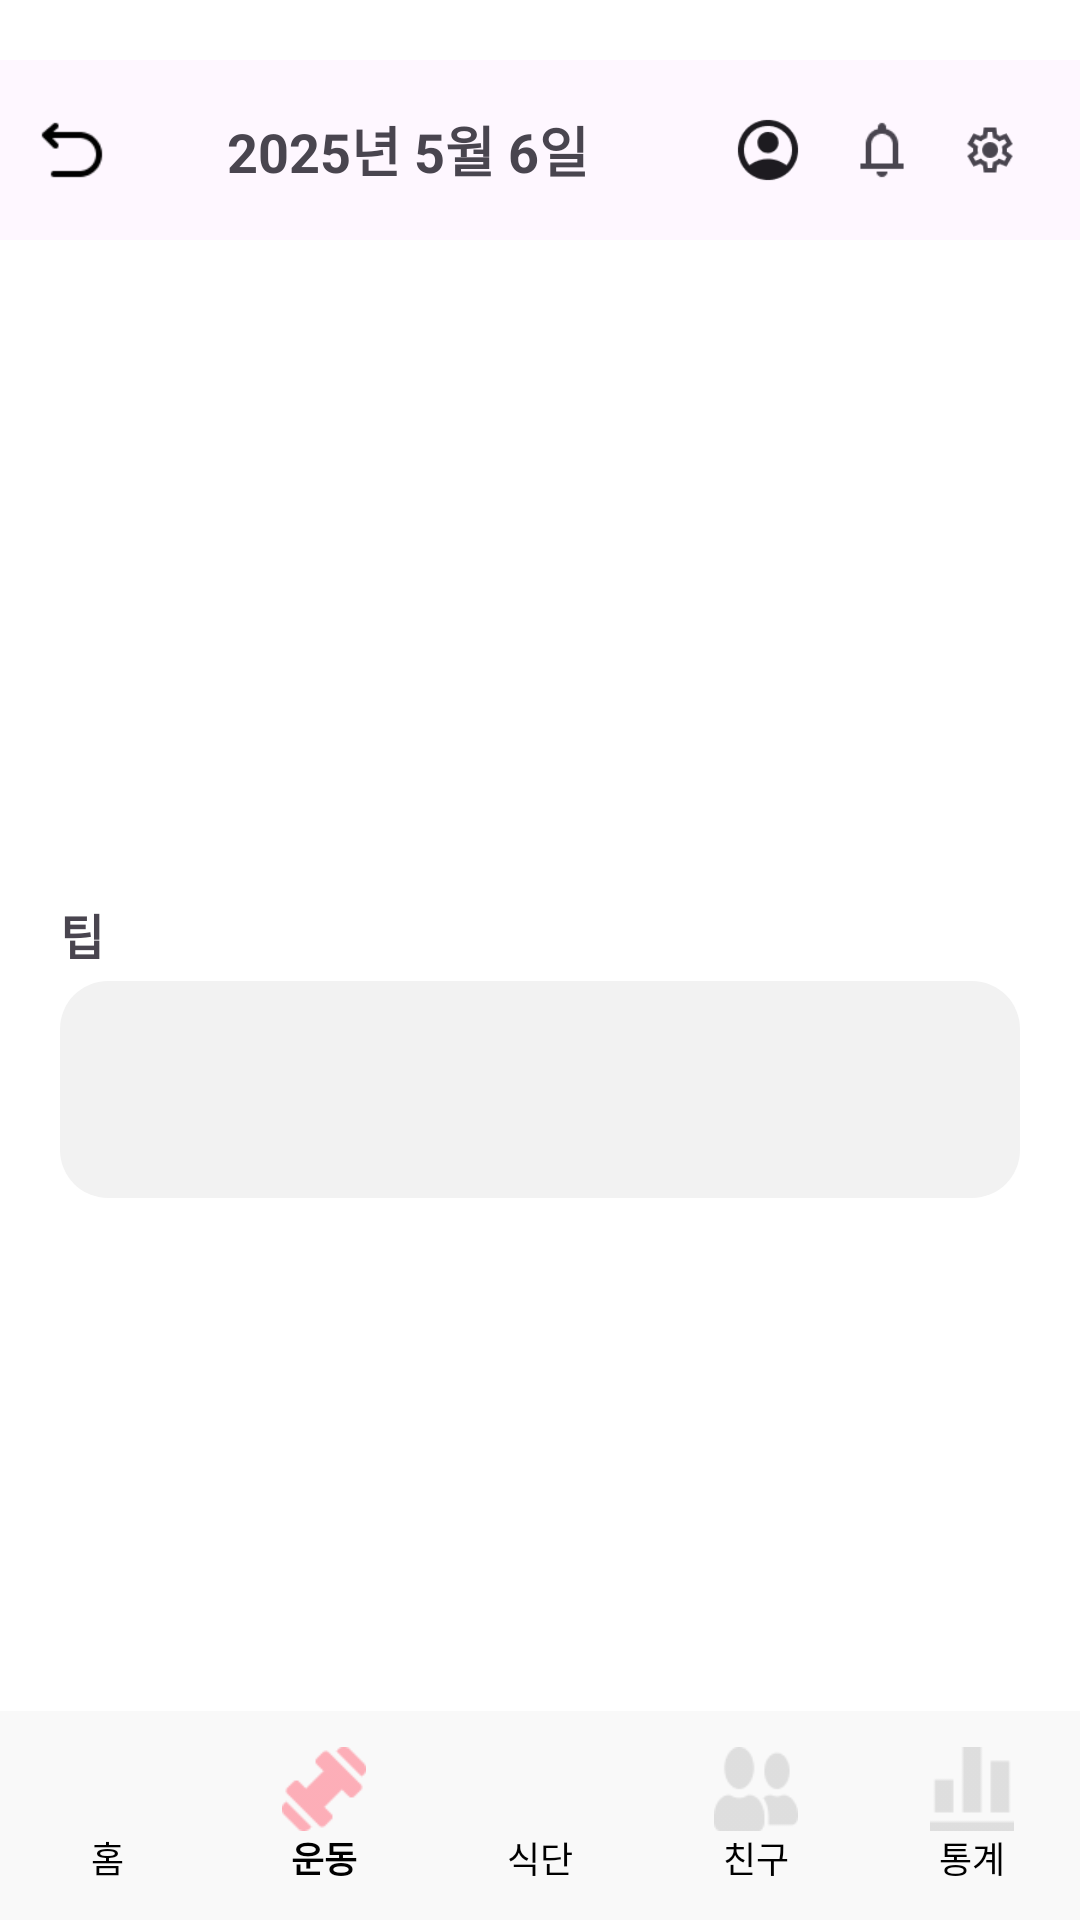

Where icons sit on this 1080 × 1920 app screen, as bbox=[x1, y1, x2, y2]:
alarm: bbox=[860, 123, 904, 177]
back: bbox=[41, 122, 103, 178]
profile: bbox=[738, 120, 798, 180]
setting: bbox=[967, 127, 1013, 173]
